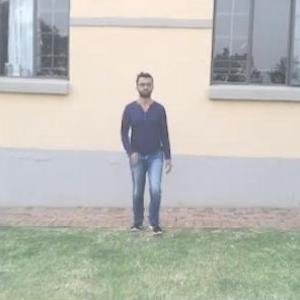follow: (122, 70, 172, 233)
